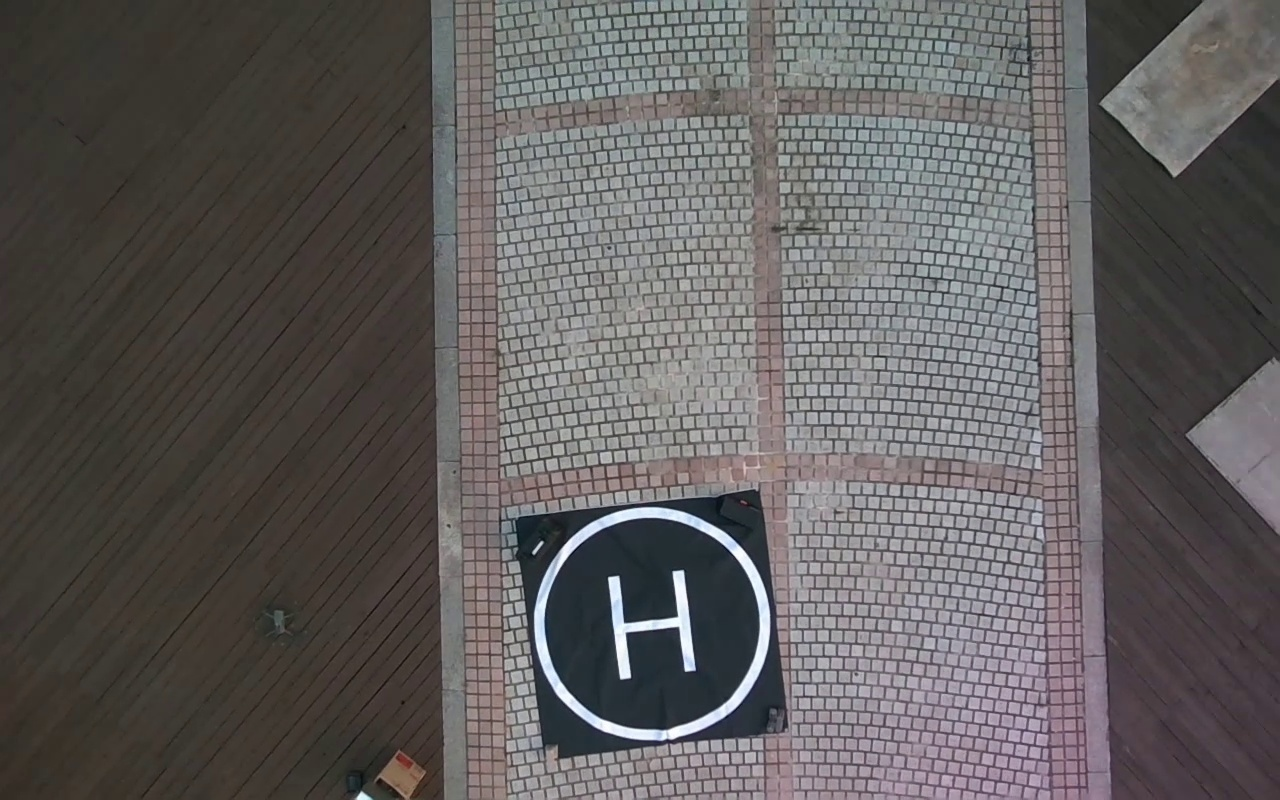H: (606, 566, 697, 680)
heliport: (535, 507, 772, 737)
